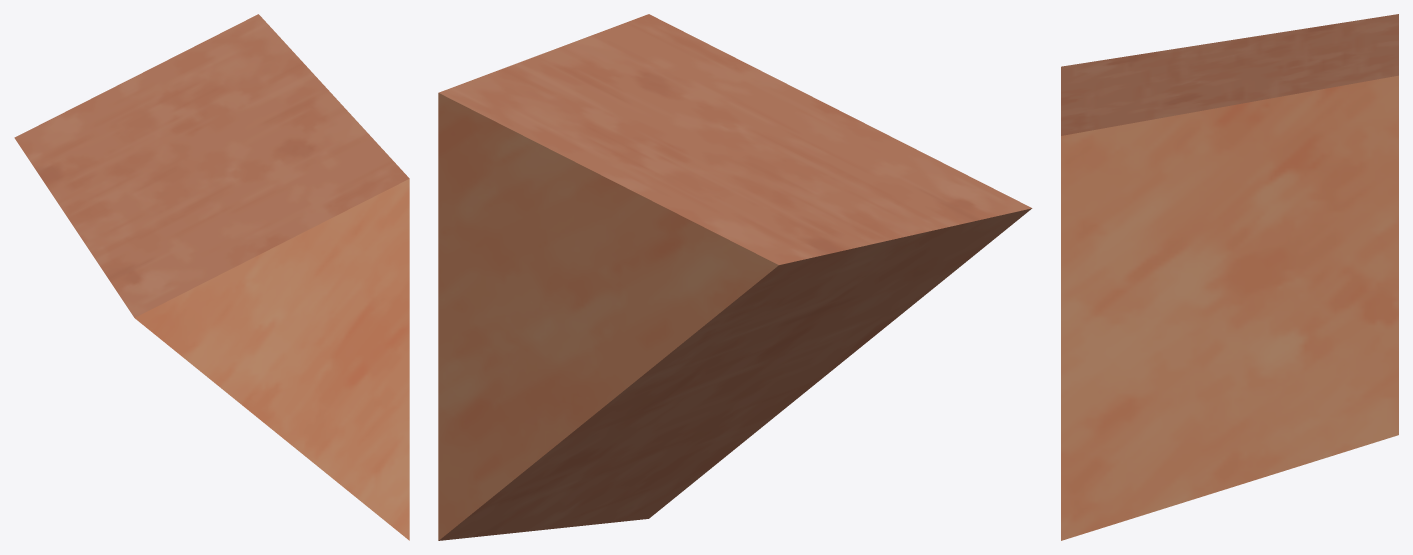
The model's file is townwall_s09.fbx.
3 renders of one model, left to right at view 1: azimuth 30°, elevation 25°; view 2: azimuth 150°, elevation 25°; view 3: azimuth 270°, elevation 25°, orthographic. The views are drawn at different scales.
Visible parts, largest first — view 1: townwall_s09; view 2: townwall_s09; view 3: townwall_s09.
Part boxes in pixels (bbox=[...]): townwall_s09: bbox=[14, 14, 409, 540]; townwall_s09: bbox=[438, 14, 1032, 540]; townwall_s09: bbox=[1061, 14, 1398, 540].
Bounding box in the file's own units: 3.16 × 4.56 × 3.
